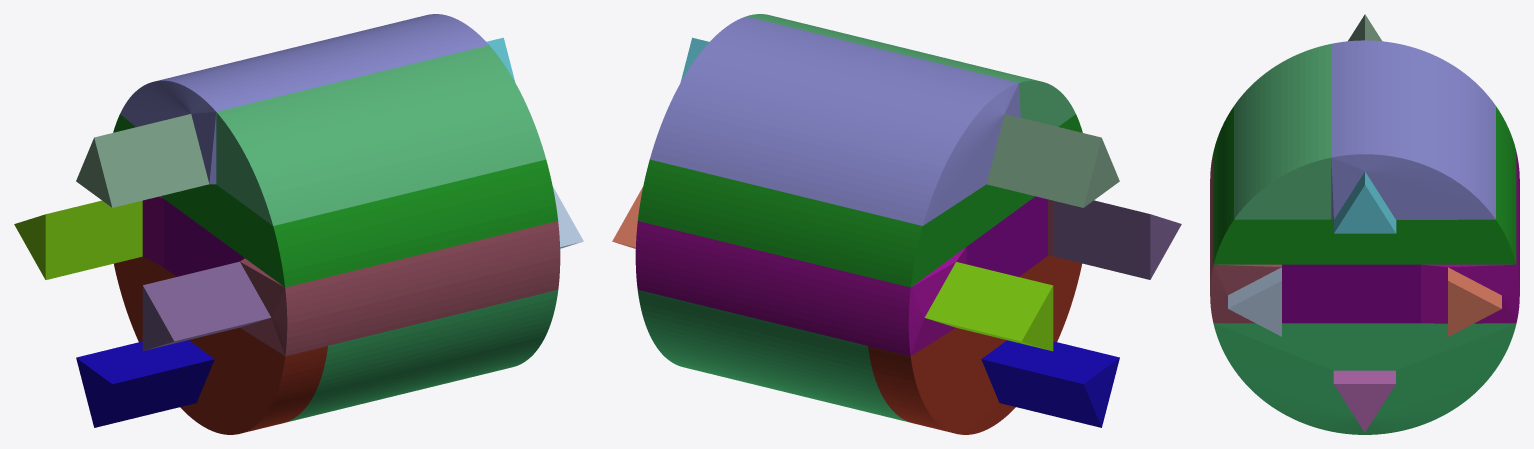
Rendered from 1_canonical.obj.
3 views of the same model, side by side, from view 1: azimuth 30°, elevation 25°; view 2: azimuth 150°, elevation 25°; view 3: azimuth 270°, elevation 25° (orthographic). The views are drawn at different scales.
Visible parts, largest first — view 1: geometry_3, geometry_8, geometry_13, geometry_12, geometry_10, geometry_15, geometry_0, geometry_5, geometry_1, geometry_4, geometry_11, geometry_14 (+1 smaller); view 2: geometry_12, geometry_8, geometry_14, geometry_10, geometry_15, geometry_0, geometry_5, geometry_4, geometry_1, geometry_11, geometry_3, geometry_9; view 3: geometry_12, geometry_10, geometry_8, geometry_3, geometry_11, geometry_14, geometry_13, geometry_7, geometry_2, geometry_9, geometry_6, geometry_0.
Boxes of the visible parts, left/top/right/bottom form: geometry_3: left=216, top=45, right=546, bottom=225; geometry_8: left=113, top=114, right=558, bottom=287; geometry_13: left=240, top=221, right=560, bottom=356; geometry_12: left=120, top=14, right=488, bottom=184; geometry_10: left=286, top=290, right=558, bottom=422; geometry_15: left=114, top=256, right=327, bottom=434; geometry_0: left=76, top=114, right=209, bottom=207; geometry_5: left=76, top=340, right=214, bottom=427; geometry_1: left=142, top=261, right=270, bottom=350; geometry_4: left=14, top=200, right=142, bottom=279; geometry_11: left=163, top=199, right=244, bottom=276; geometry_14: left=142, top=196, right=163, bottom=266; geometry_12: left=649, top=16, right=1020, bottom=225; geometry_8: left=638, top=114, right=1082, bottom=287; geometry_14: left=635, top=221, right=966, bottom=356; geometry_10: left=637, top=290, right=909, bottom=422; geometry_15: left=868, top=256, right=1082, bottom=434; geometry_0: left=986, top=114, right=1119, bottom=207; geometry_5: left=981, top=340, right=1119, bottom=427; geometry_4: left=924, top=262, right=1053, bottom=351; geometry_1: left=1053, top=200, right=1181, bottom=279; geometry_11: left=966, top=196, right=1047, bottom=276; geometry_3: left=746, top=14, right=1075, bottom=126; geometry_9: left=612, top=186, right=643, bottom=248; geometry_12: left=1331, top=40, right=1495, bottom=219; geometry_10: left=1213, top=323, right=1516, bottom=434; geometry_8: left=1213, top=106, right=1516, bottom=264; geometry_3: left=1234, top=44, right=1331, bottom=219; geometry_11: left=1282, top=264, right=1420, bottom=323; geometry_14: left=1421, top=152, right=1519, bottom=323; geometry_13: left=1210, top=152, right=1281, bottom=323; geometry_7: left=1333, top=370, right=1395, bottom=432; geometry_2: left=1334, top=171, right=1396, bottom=233; geometry_9: left=1448, top=267, right=1501, bottom=336; geometry_6: left=1228, top=267, right=1281, bottom=336; geometry_0: left=1348, top=14, right=1381, bottom=41.
Size of the model in its own units: 0.03 by 0.023 by 0.023.
